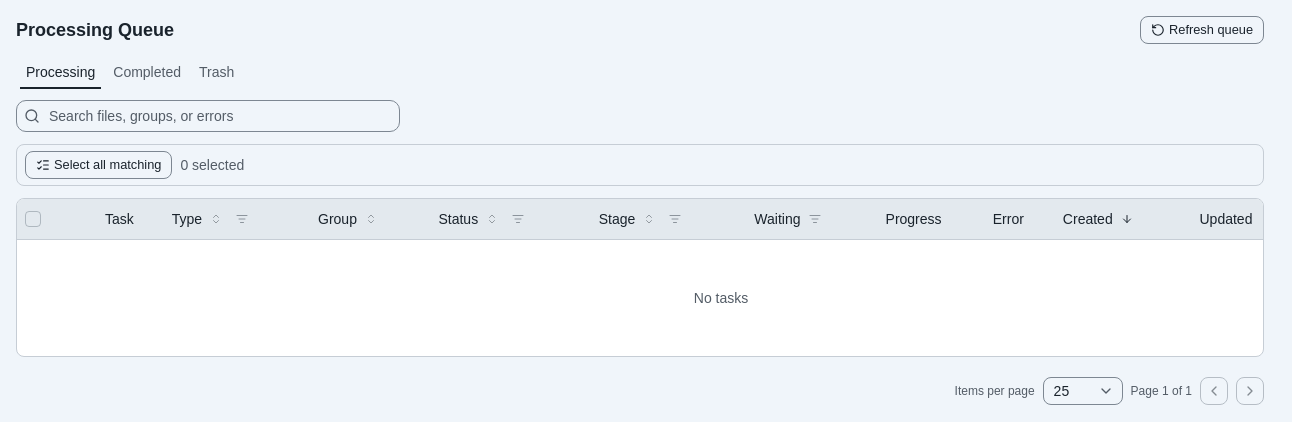
Test case: ProcessingQueuePage › shows the trash-specific empty copy
The image size is (1292, 422).
Expected: the text "No tasks" is shown, top-left (17, 239), bottom-right (1263, 356)
Click the tab "Trash".
click(217, 72)  # box top-left (192, 60), bottom-right (241, 84)
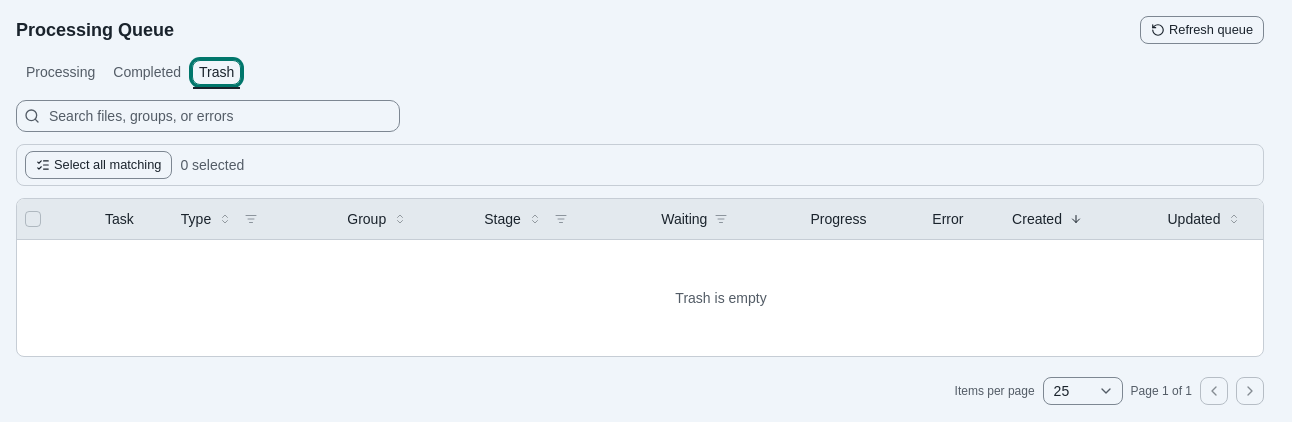
Result: the text "Trash is empty" is shown at top-left (17, 239), bottom-right (1263, 356)
